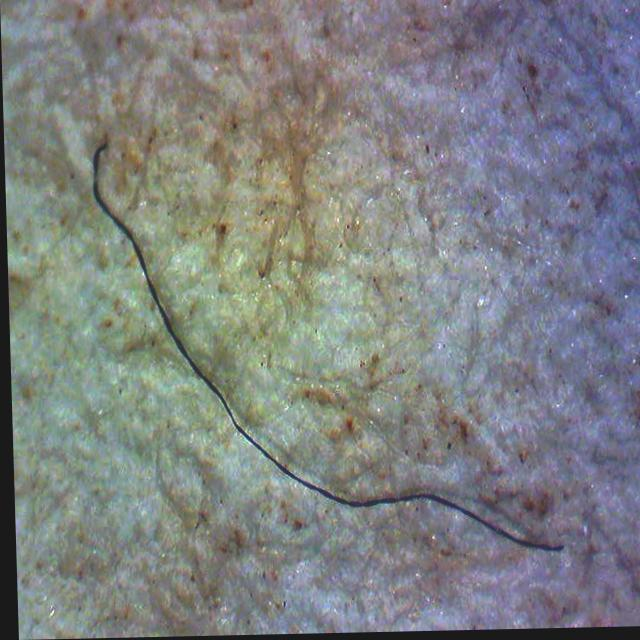microplastic: (14, 145, 566, 640)
